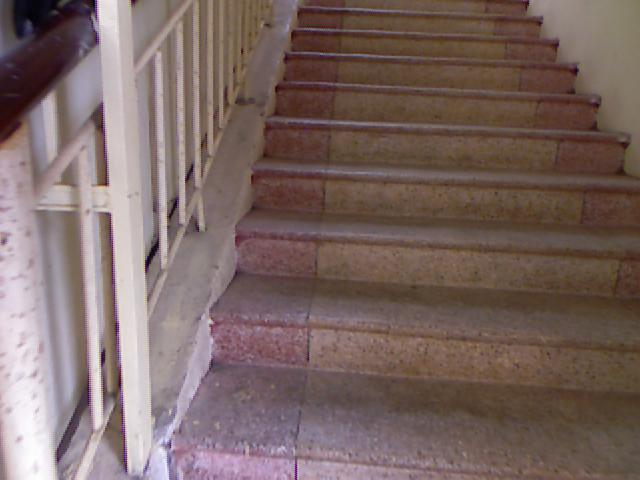Escaleras: (173, 40, 634, 466)
